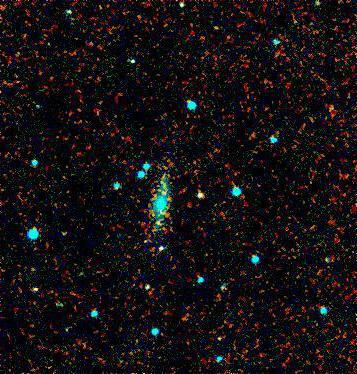star: (314, 92, 344, 122)
